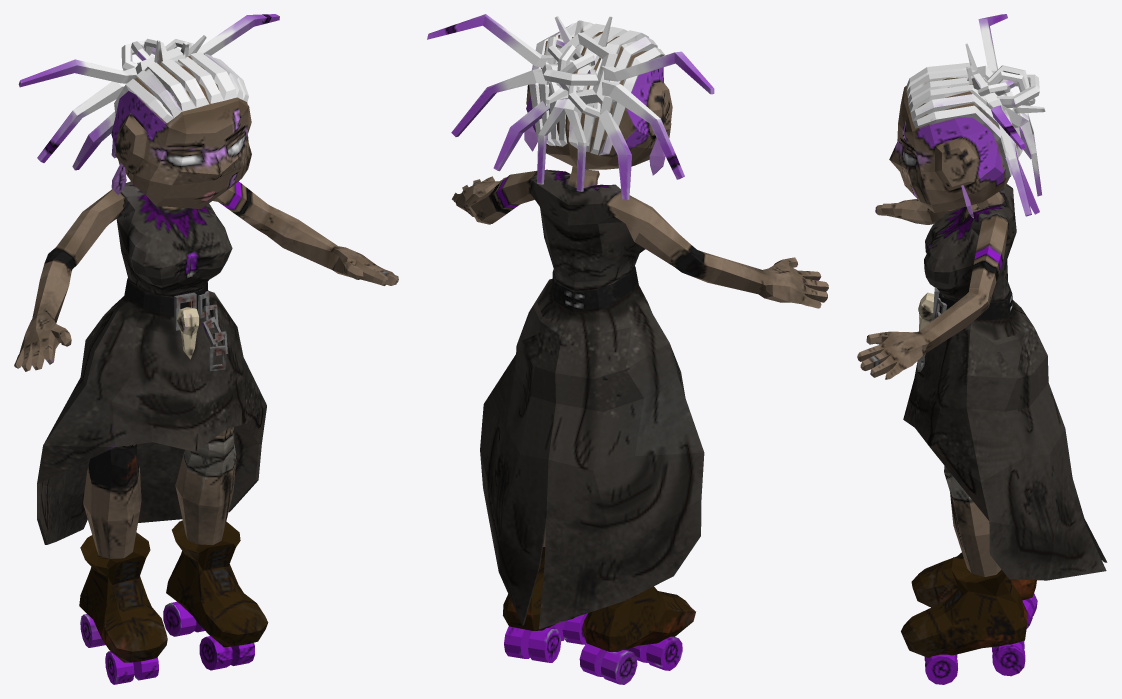
Rendered from bruja_000225.obj.
The picture shows the model from 3 angles, left to right: view 1: azimuth 30°, elevation 25°; view 2: azimuth 150°, elevation 25°; view 3: azimuth 270°, elevation 25°; orthographic projection. The views are drawn at different scales.
Visible parts, largest first — view 1: Bruja_Plane.001; view 2: Bruja_Plane.001; view 3: Bruja_Plane.001.
Part boxes in pixels (bbox=[...]): Bruja_Plane.001: bbox=[14, 14, 398, 684]; Bruja_Plane.001: bbox=[427, 14, 828, 684]; Bruja_Plane.001: bbox=[857, 14, 1107, 684].
Bounding box in the file's own units: 10.21 × 16.69 × 6.24.
